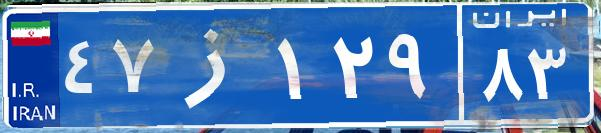1: (273, 28, 330, 110)
2: (330, 28, 385, 110)
3: (525, 38, 570, 115)
4: (57, 26, 110, 107)
7: (110, 28, 158, 105)
8: (475, 38, 525, 113)
9: (385, 28, 445, 110)
ز: (158, 15, 273, 115)
